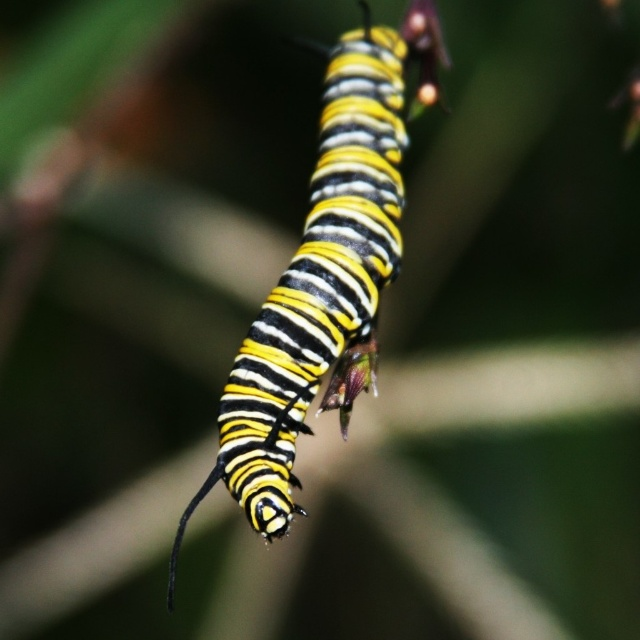Caterpillar: (165, 0, 419, 612)
